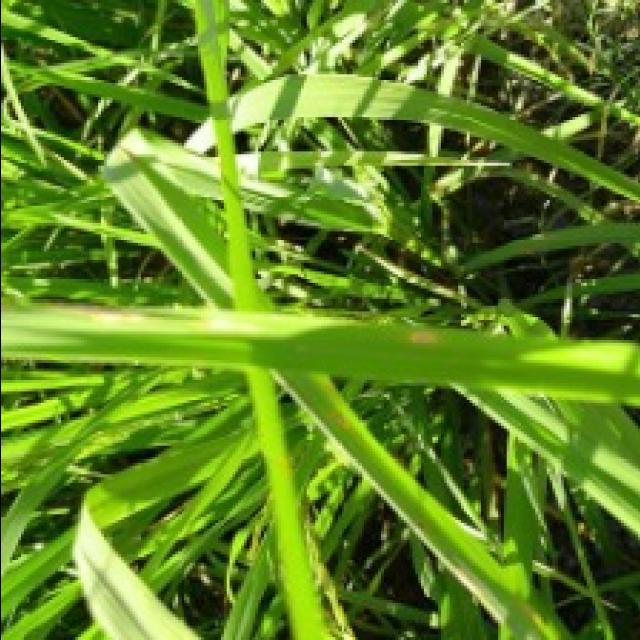Unhealthy: (454, 568, 499, 621), (51, 304, 148, 319), (330, 413, 344, 429), (411, 331, 431, 342)
